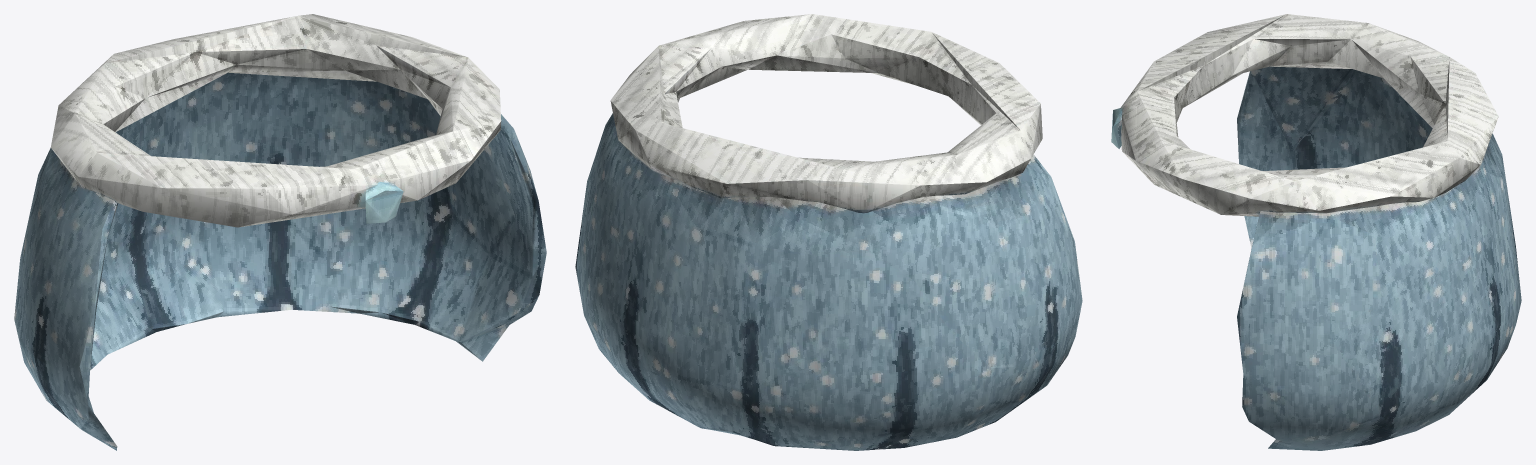
Rendered from frost_cape.glb.
3 renders of one model, left to right at view 1: azimuth 30°, elevation 25°; view 2: azimuth 150°, elevation 25°; view 3: azimuth 270°, elevation 25°, orthographic. The views are drawn at different scales.
Parts seen in each view (by area): view 1: frost_cape_mesh; view 2: frost_cape_mesh; view 3: frost_cape_mesh.
Boxes of the visible parts, x1,y1,x2,y2 form: frost_cape_mesh: (14,14,546,450); frost_cape_mesh: (575,14,1082,450); frost_cape_mesh: (1111,14,1521,450).
Bounding box in the file's own units: 32.08 × 19 × 26.12.
1 material, 1 textured.
